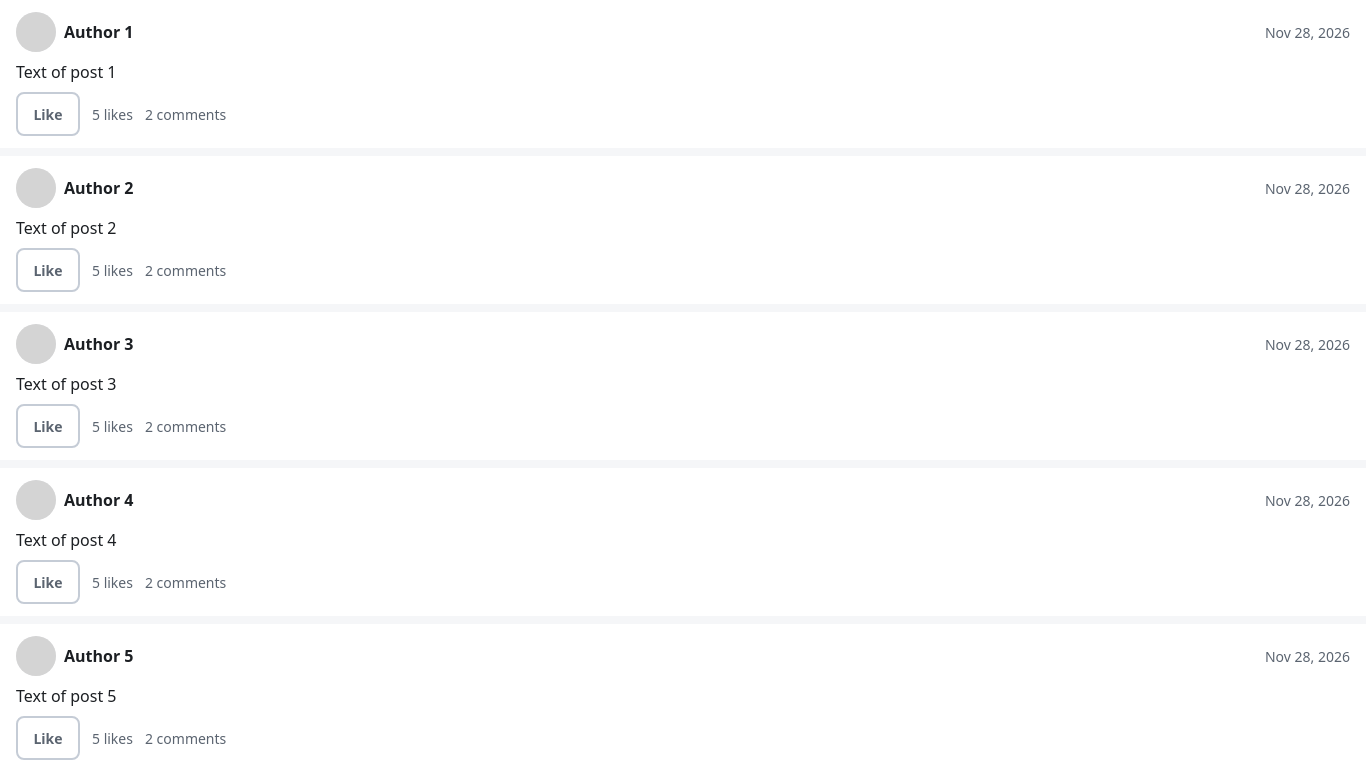
Test: Feed: the like button › is pressed at once, before the server answers
Click the 1st button "Like" at (48, 114), box [16,92,80,136]
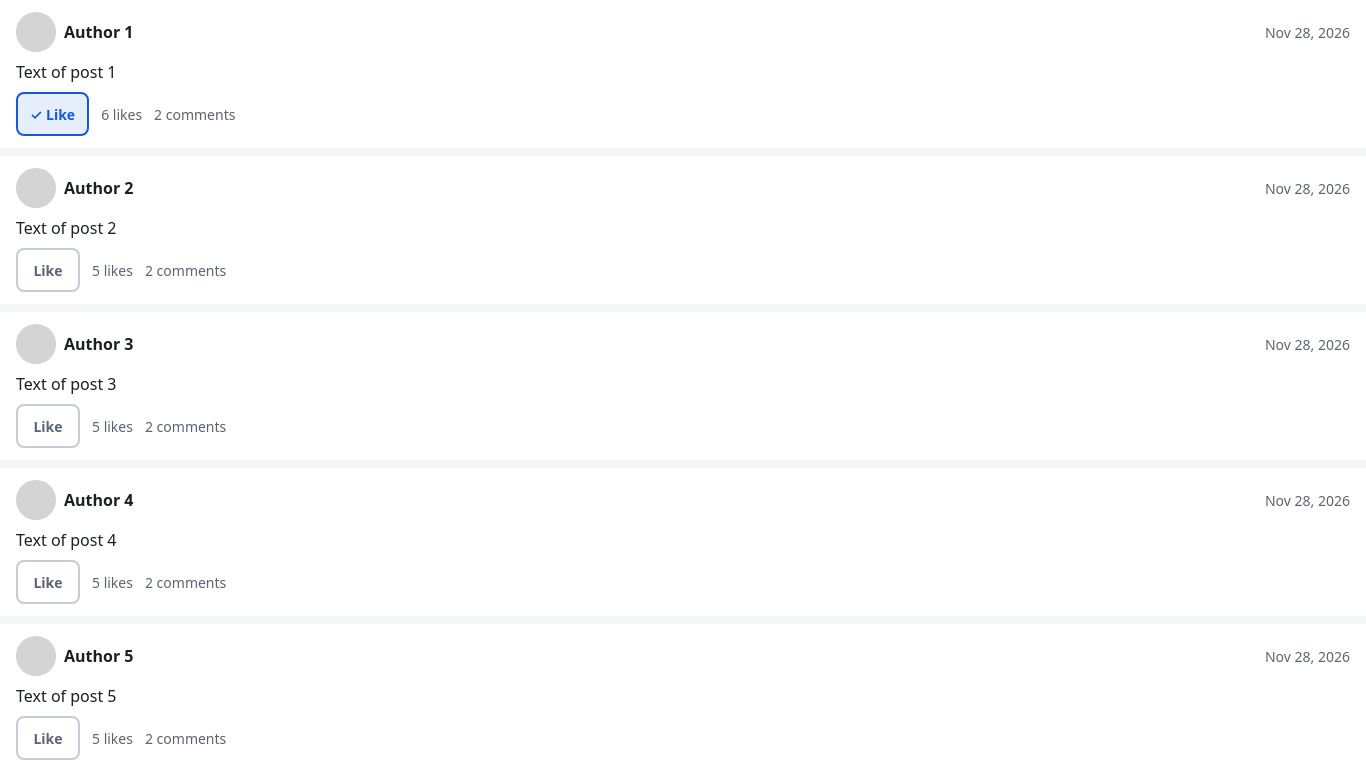
Now the text "6 likes" is shown, box [101,104,142,124]
